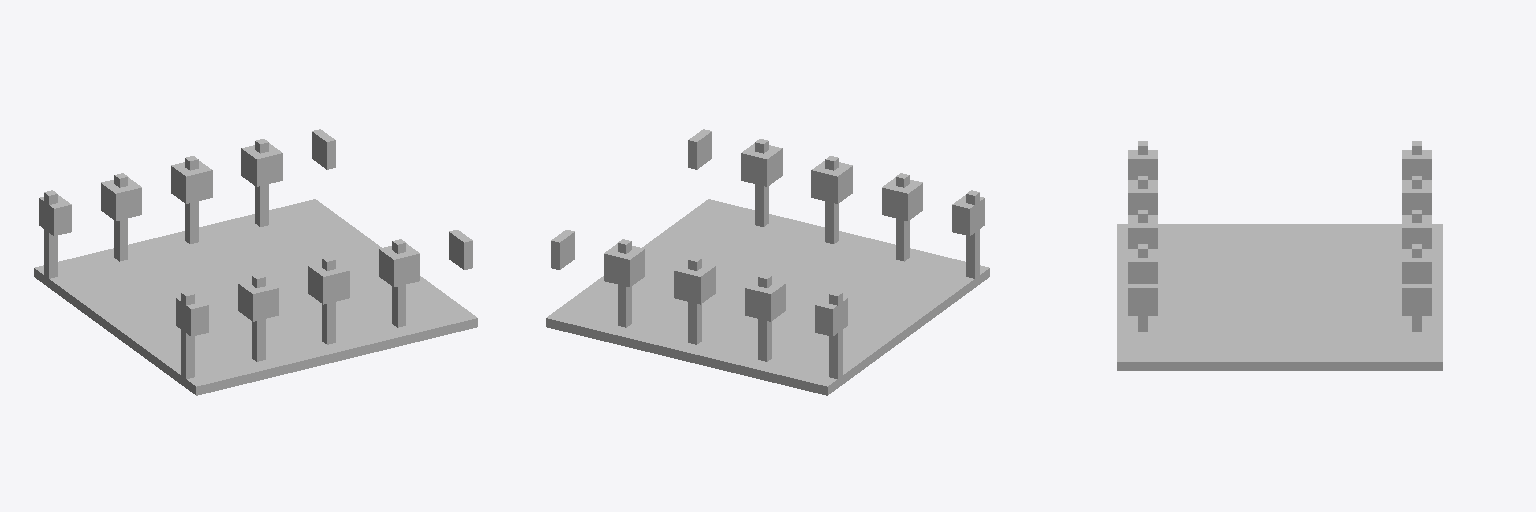
File: road horizontal.obj
3 renders of one model, left to right at view 1: azimuth 30°, elevation 25°; view 2: azimuth 150°, elevation 25°; view 3: azimuth 270°, elevation 25°, orthographic.
Visible parts, largest first — view 1: object 1; view 2: object 1; view 3: object 1.
Part boxes in pixels (left/top/right/bottom): object 1: left=34, top=129, right=477, bottom=395; object 1: left=546, top=129, right=989, bottom=395; object 1: left=1117, top=141, right=1442, bottom=370.
Bounding box in the file's own units: 3.2 × 1 × 3.2.